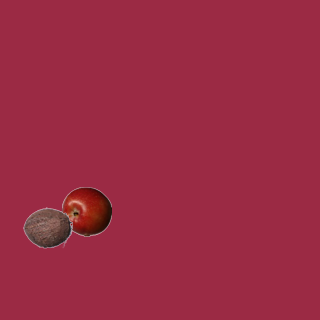Apple Braeburn: (61, 186, 111, 236)
Cocos: (22, 202, 72, 252)
